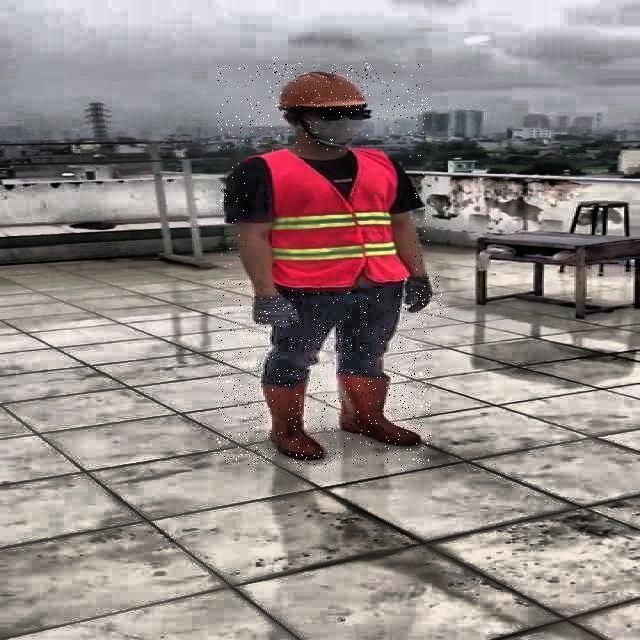safety_helmet: (272, 67, 370, 111)
safety_jacket: (247, 151, 409, 287)
